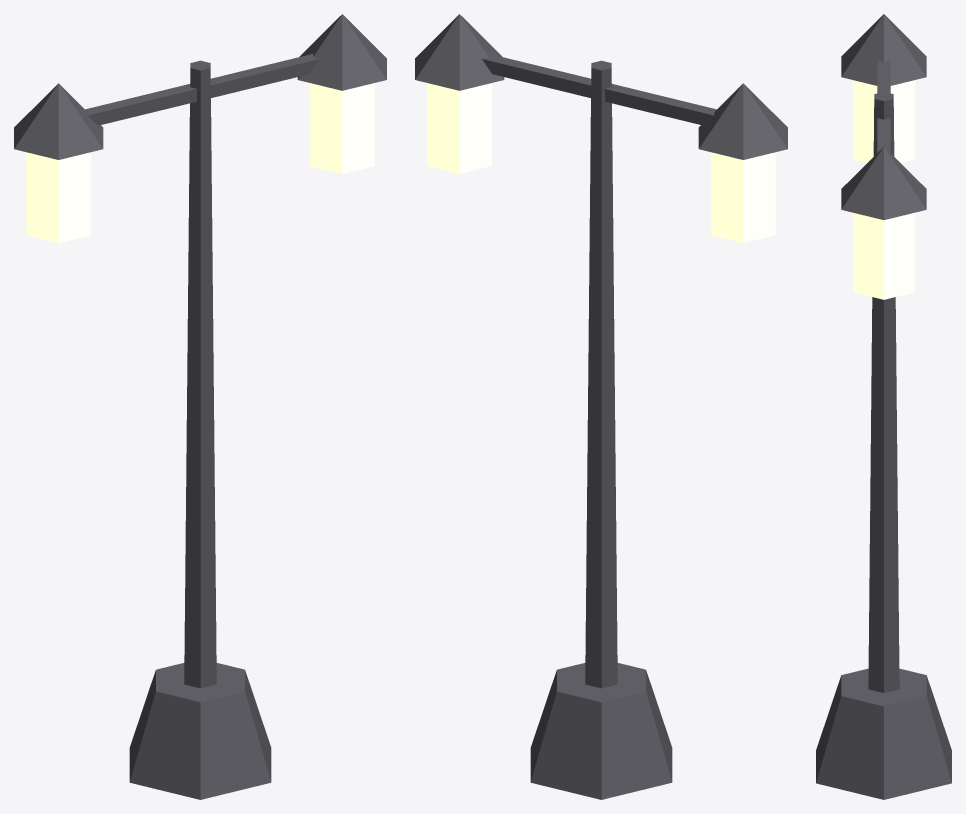
File: lamp_double.glb
3 renders of one model, left to right at view 1: azimuth 30°, elevation 25°; view 2: azimuth 150°, elevation 25°; view 3: azimuth 270°, elevation 25°, orthographic. The views are drawn at different scales.
Visible parts, largest first — view 1: lamp_double; view 2: lamp_double; view 3: lamp_double.
Boxes of the visible parts, <box> form: lamp_double: <box>14,14,386,799</box>; lamp_double: <box>415,14,787,799</box>; lamp_double: <box>816,14,951,799</box>.
Size of the model in its own units: 1.84 by 3.38 by 0.6062.
